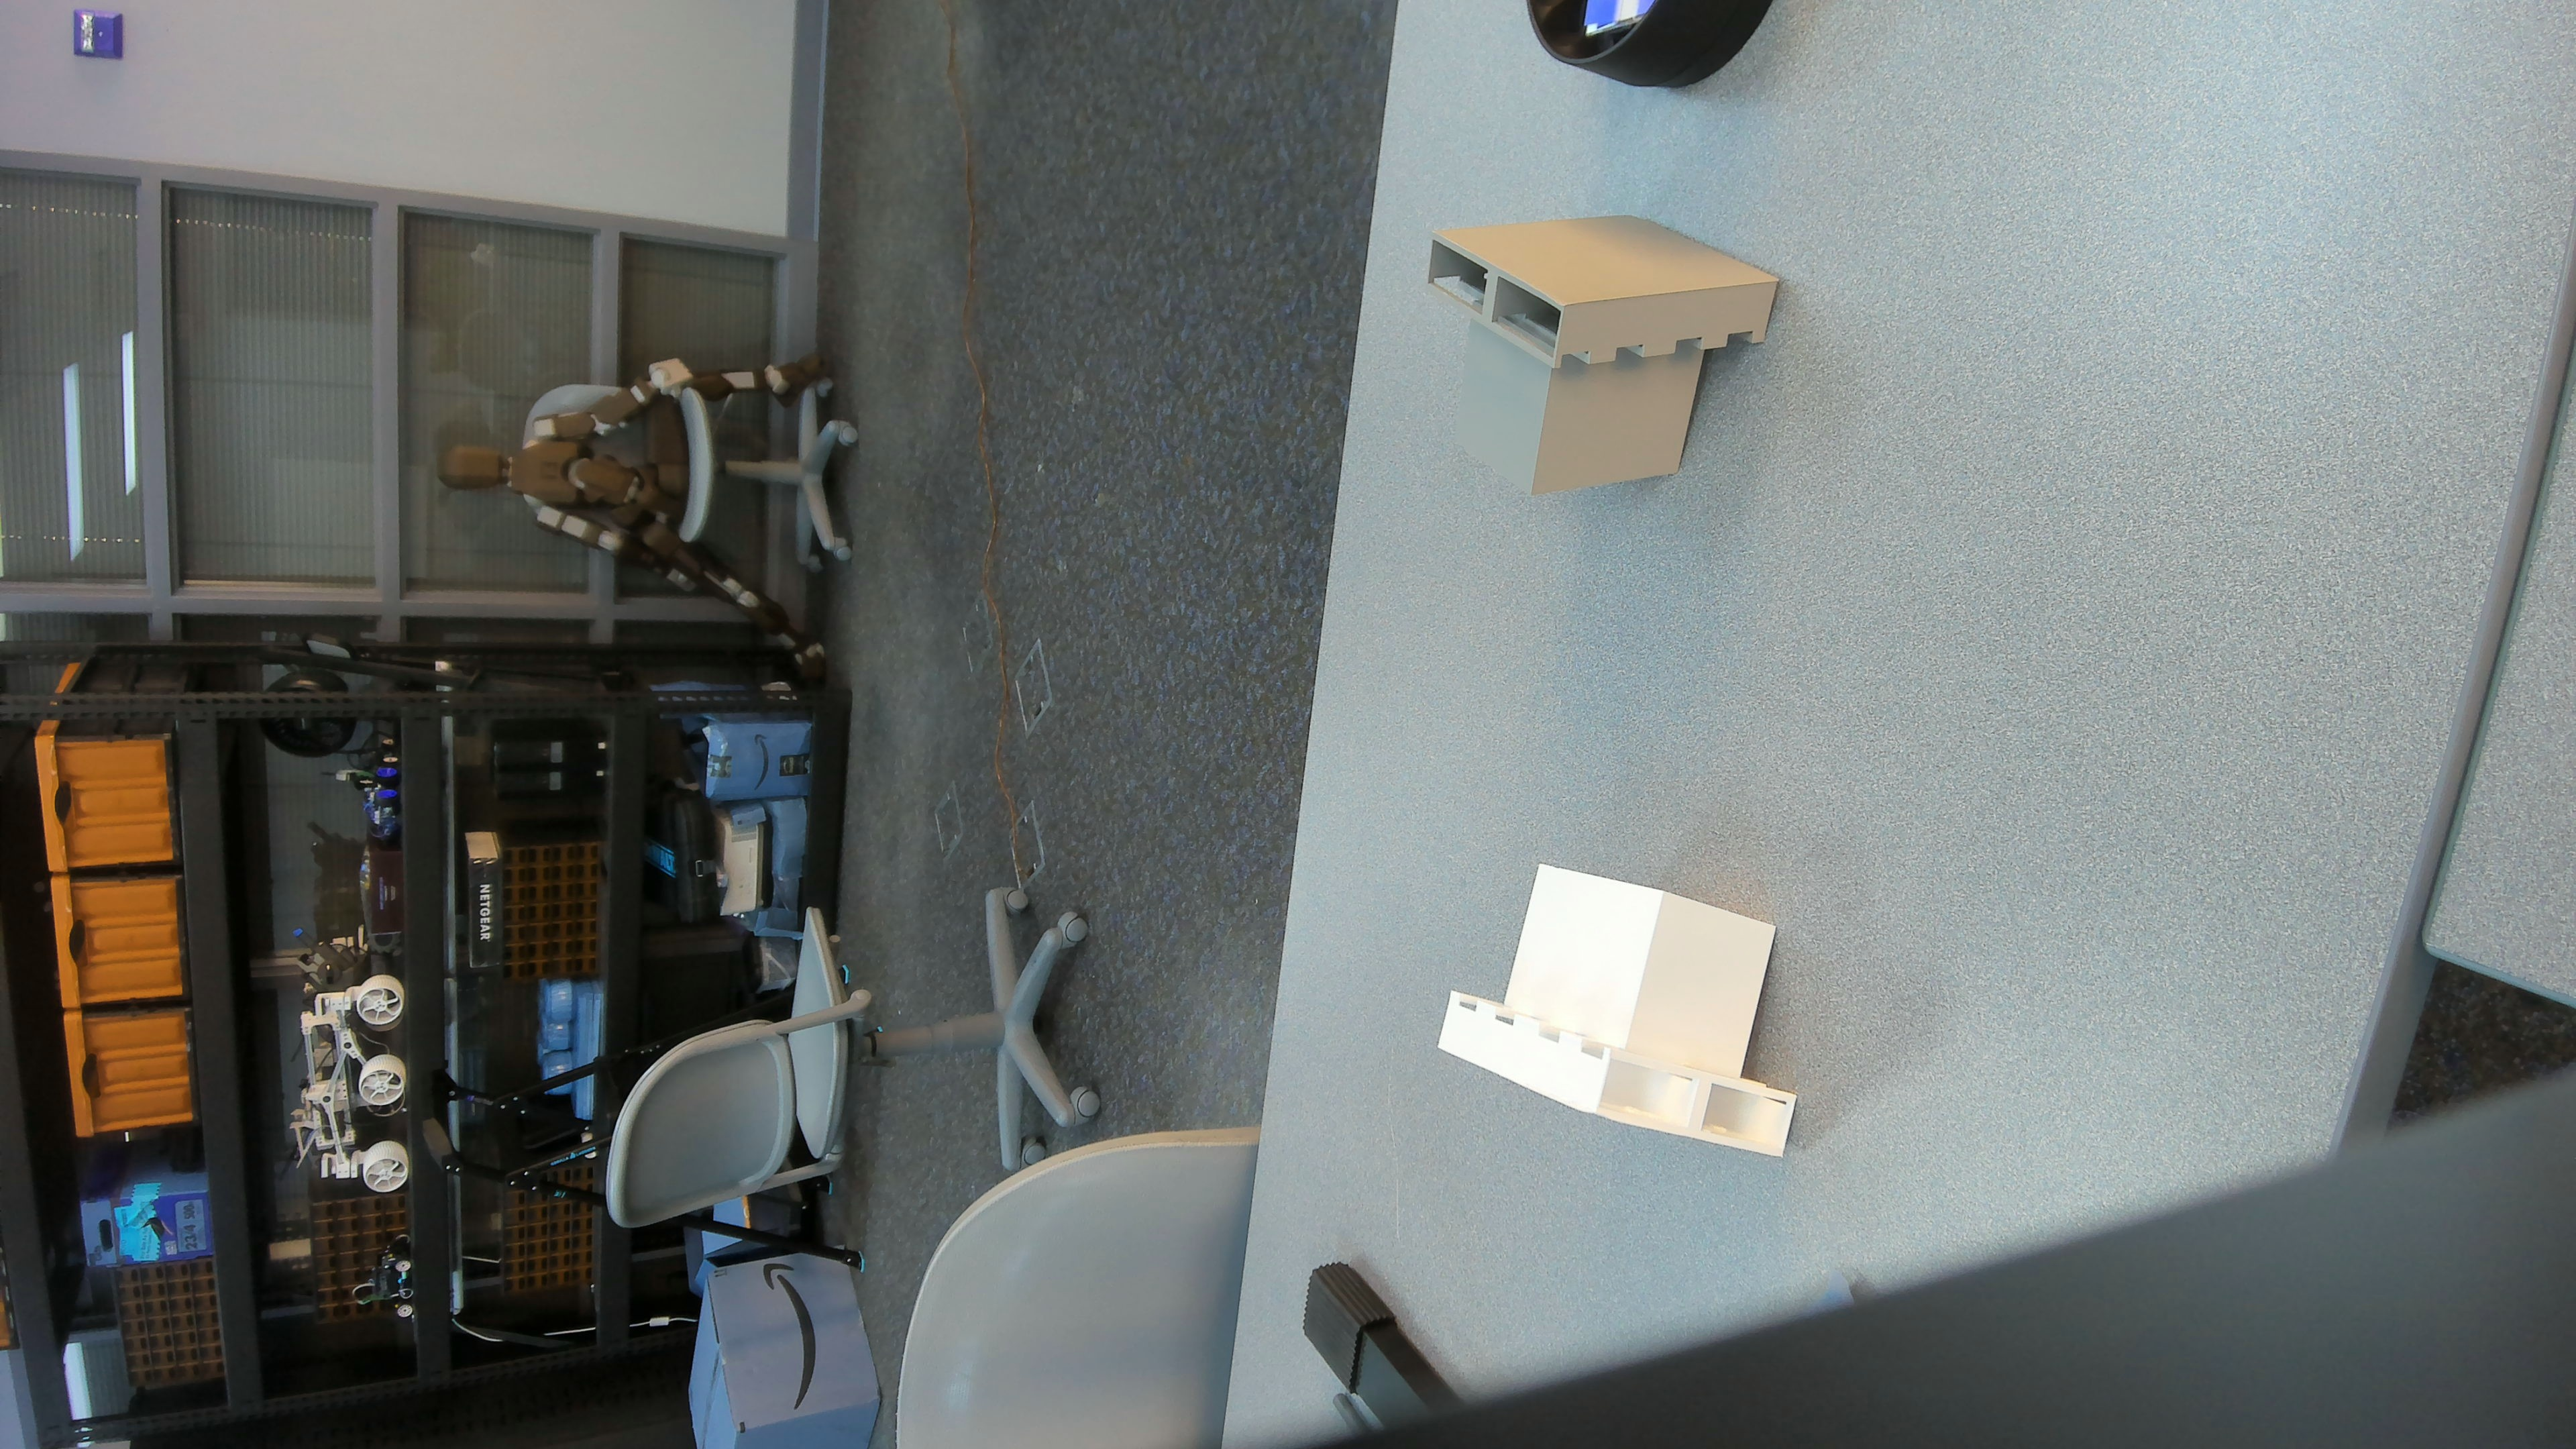grey pallet: (1396, 211, 1792, 506)
white pallet: (1421, 855, 1815, 1175)
